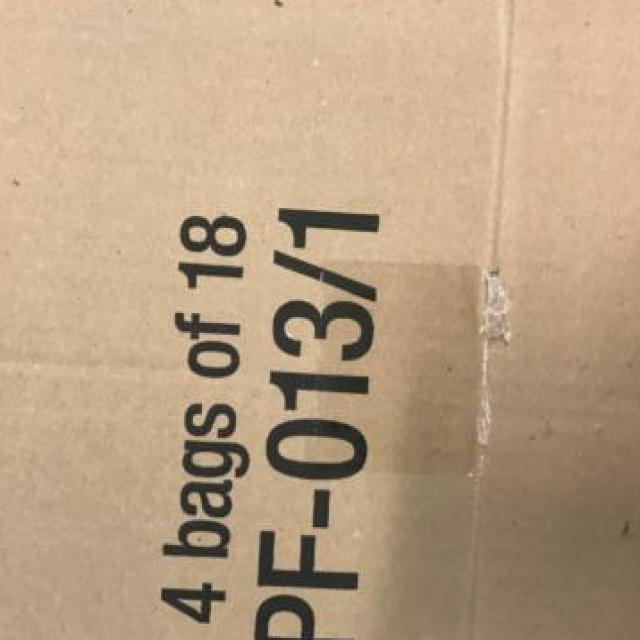organic: (9, 4, 635, 636)
